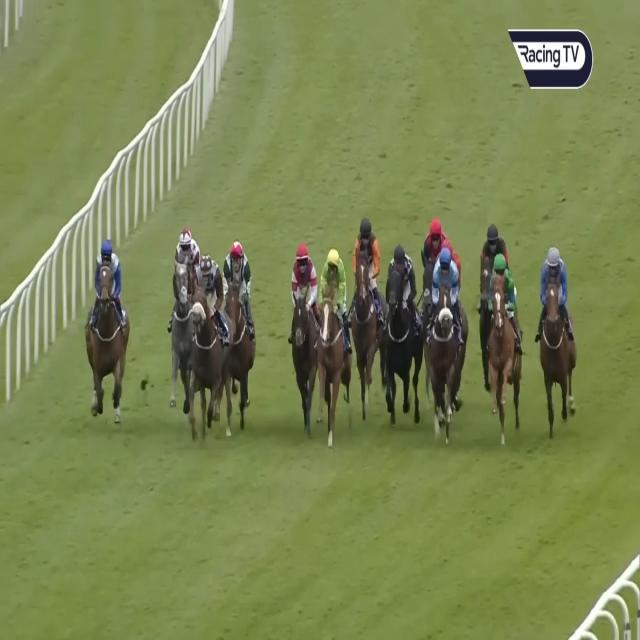horses-racing: (185, 250, 229, 429), (536, 245, 573, 446), (90, 238, 127, 418), (348, 217, 381, 414), (283, 237, 318, 413), (315, 245, 346, 438), (484, 260, 522, 416), (428, 252, 460, 434), (384, 238, 417, 412), (170, 223, 201, 404), (224, 237, 256, 408), (474, 225, 508, 365), (418, 210, 449, 330)
